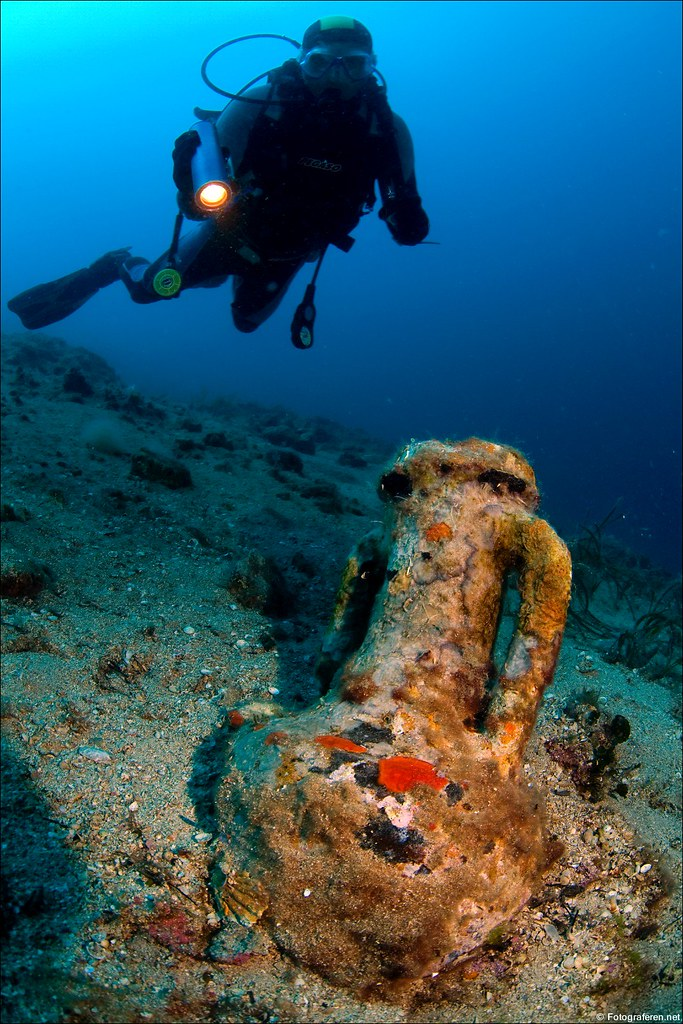amphora: (212, 416, 580, 998)
